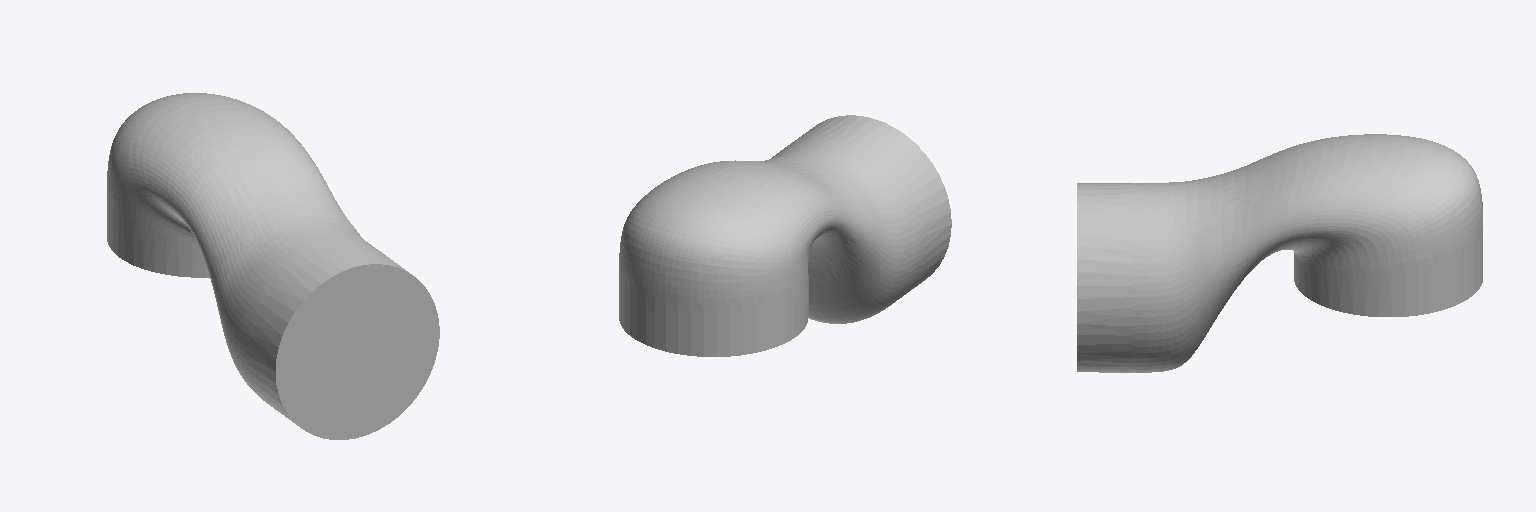
Rendered from wrist_spherical_1.obj.
3 views of the same model, side by side, from view 1: azimuth 30°, elevation 25°; view 2: azimuth 150°, elevation 25°; view 3: azimuth 270°, elevation 25° (orthographic).
Size of the model in its own units: 0.063 by 0.0791 by 0.1351.